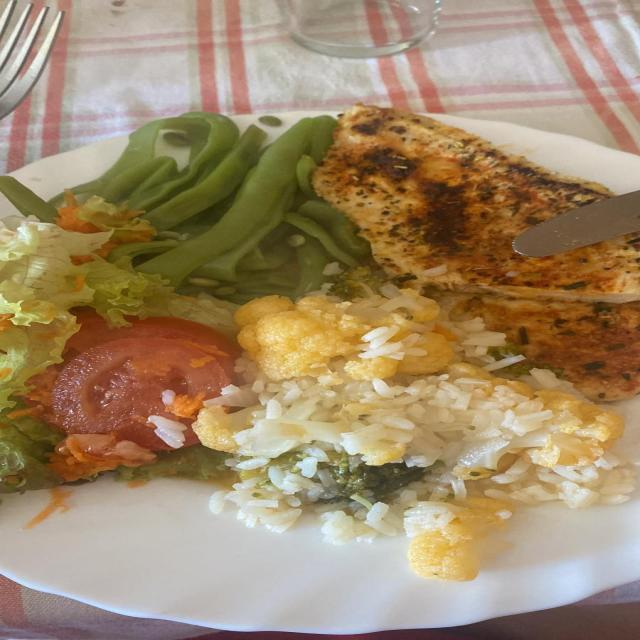chicken steak: (312, 105, 639, 399)
cup: (278, 0, 439, 59)
garbage: (26, 310, 240, 481)
knife: (512, 190, 639, 258)
lettuce: (0, 192, 230, 492)
plate: (0, 105, 639, 633)
rice: (191, 288, 635, 581)
vegetables: (70, 112, 368, 302)
